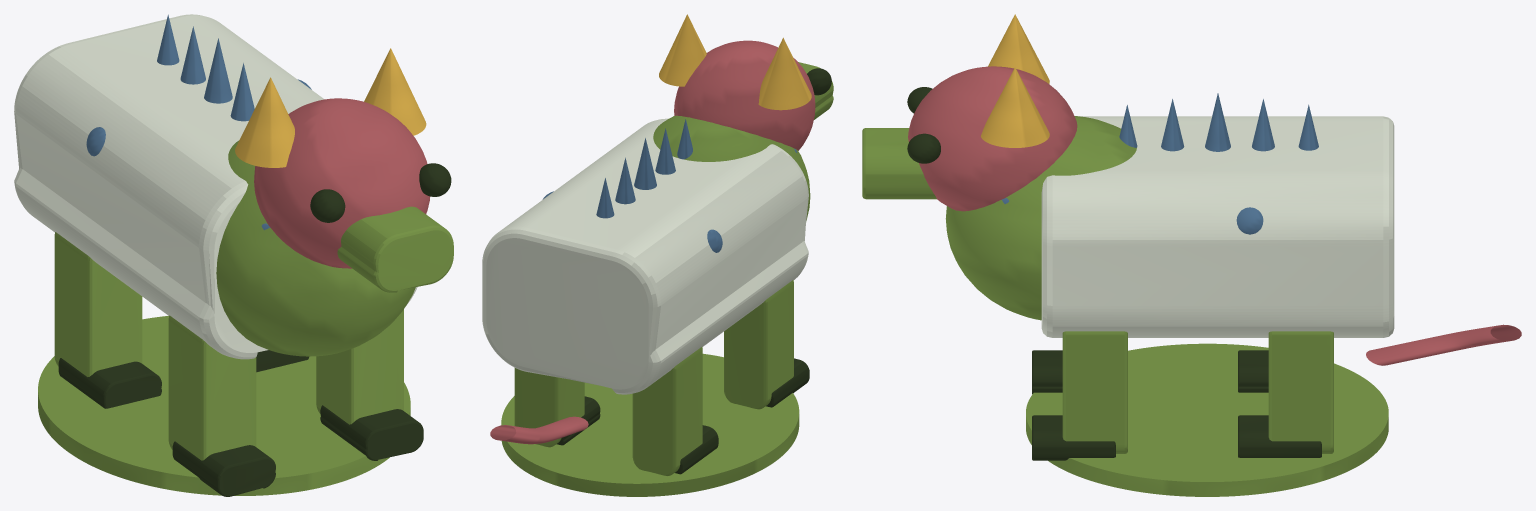
File: 1284_爬行动物图鉴_白唇竹叶青.glb
3 views of the same model, side by side, from view 1: azimuth 30°, elevation 25°; view 2: azimuth 150°, elevation 25°; view 3: azimuth 270°, elevation 25° (orthographic). The views are drawn at different scales.
Parts seen in each view (by area): view 1: card_1284; view 2: card_1284; view 3: card_1284.
Part boxes in pixels (bbox=[...]): card_1284: bbox=[14, 14, 453, 496]; card_1284: bbox=[482, 14, 833, 496]; card_1284: bbox=[862, 14, 1521, 496].
Size of the model in its own units: 0.7663 by 1 by 1.54.
